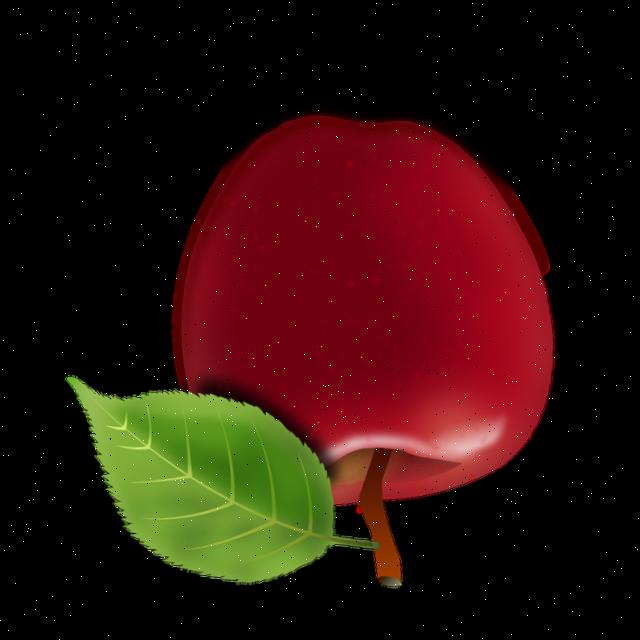Apel: (157, 103, 570, 520)
